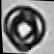correct: (0, 3, 54, 54)
